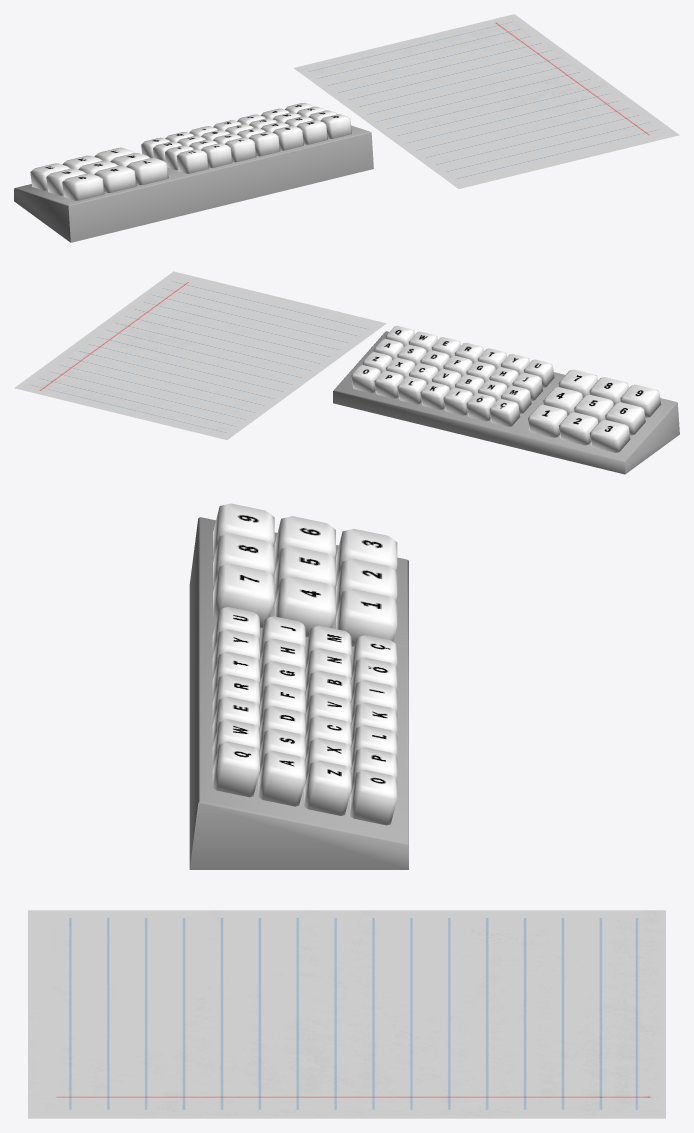
Rendered from KeyboardRun_klavye-paper.fbx.
3 renders of one model, top to bottom at view 1: azimuth 30°, elevation 25°; view 2: azimuth 150°, elevation 25°; view 3: azimuth 270°, elevation 25°, orthographic. The views are drawn at different scales.
Parts seen in each view (by area): view 1: paper, klavye_alt.key1, key1.034, key1.031, key1.028, key1.024, key1, key1.008, key1.016, key1.012, key1.004, key1.020 (+2 smaller); view 2: paper, klavye_alt.key1, key1.036, key1.030, key1.033, key1.035, key1.034, key1.032, key1.028, key1.031, key1.029, key1.027 (+27 smaller); view 3: paper, klavye_alt.key1, key1.028, key1.030, key1.029, key1, key1.001, key1.002, key1.003, key1.034, key1.032, key1.033 (+27 smaller).
Part boxes in pixels (x1,y1,x2,y2): paper: (293,14,679,188); klavye_alt.key1: (14,125,373,242); key1.034: (62,173,104,200); key1.031: (94,165,136,192); key1.028: (126,158,168,185); key1.024: (176,149,208,173); key1: (320,114,351,138); key1.008: (272,126,303,150); key1.016: (225,137,256,162); key1.012: (249,131,280,156); key1.004: (296,120,327,144); key1.020: (201,143,232,167); paper: (14,271,386,439); klavye_alt.key1: (333,331,679,474); key1.036: (589,419,630,452); key1.030: (528,404,567,437); key1.033: (559,412,598,445); key1.035: (605,402,645,435); key1.034: (620,384,661,417); key1.032: (574,394,613,422); key1.028: (558,369,597,397); key1.031: (589,377,628,405); key1.029: (543,387,582,415); key1.027: (489,398,520,426); paper: (28,910,665,1118); klavye_alt.key1: (189,517,408,869); key1.028: (213,564,274,627); key1.030: (336,589,397,646); key1.029: (274,576,335,637); key1: (212,741,259,797); key1.001: (258,751,305,806); key1.002: (304,760,351,815); key1.003: (350,770,397,825); key1.034: (213,503,274,555); key1.032: (274,546,335,598); key1.033: (336,559,397,611).
Bounding box in the file's own units: 25.87 × 2.17 × 13.07.
Materials: 3 (2 with a texture image).
